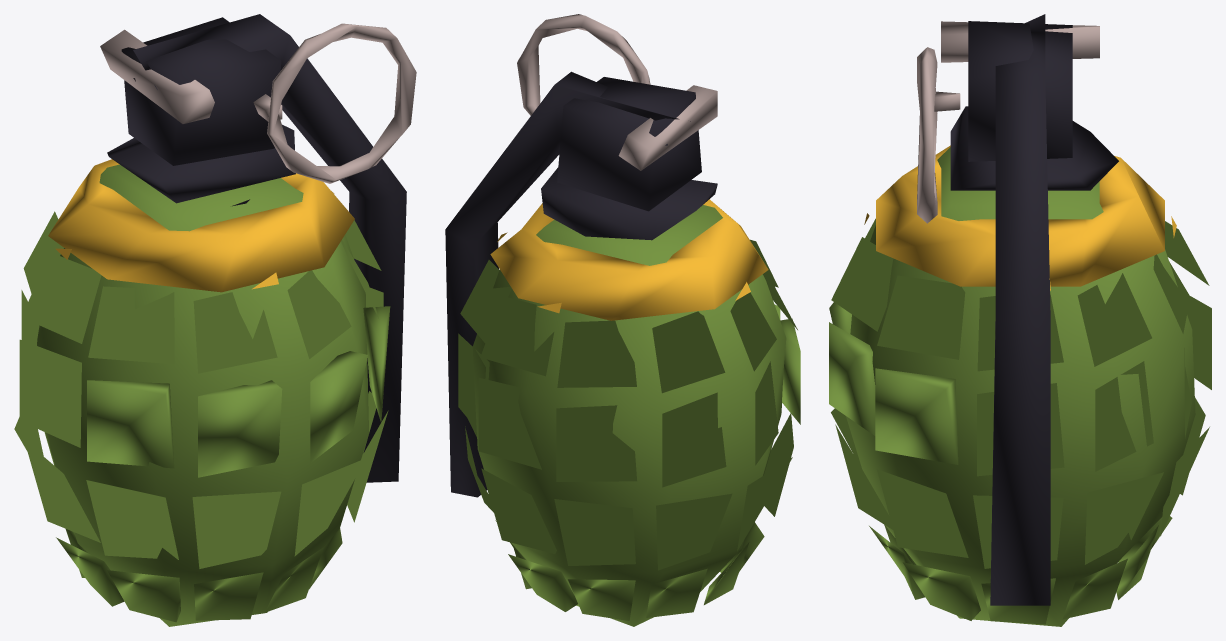
The model's file is thr.frag-grenade.lod1.glb.
3 views of the same model, side by side, from view 1: azimuth 30°, elevation 25°; view 2: azimuth 150°, elevation 25°; view 3: azimuth 270°, elevation 25° (orthographic). The views are drawn at different scales.
Bounding box in the file's own units: 0.1502 × 0.2382 × 0.1395.
